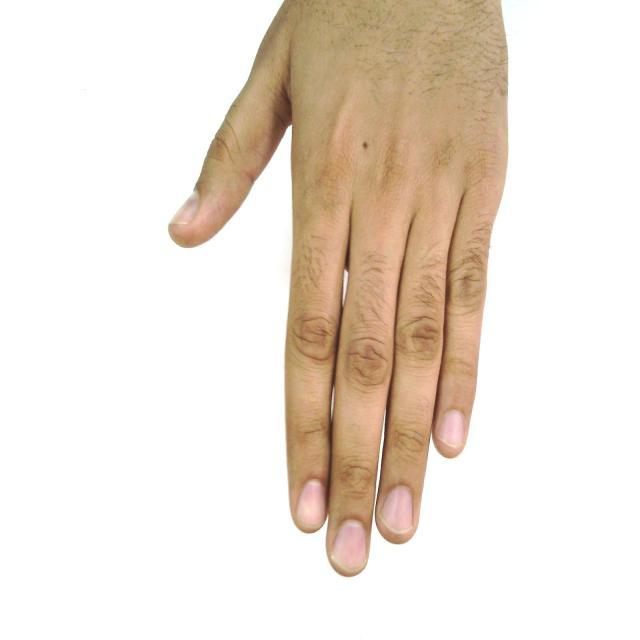Fingernail: (332, 521, 366, 572), (381, 486, 413, 533), (297, 481, 325, 529), (438, 411, 465, 447), (171, 193, 198, 225)
